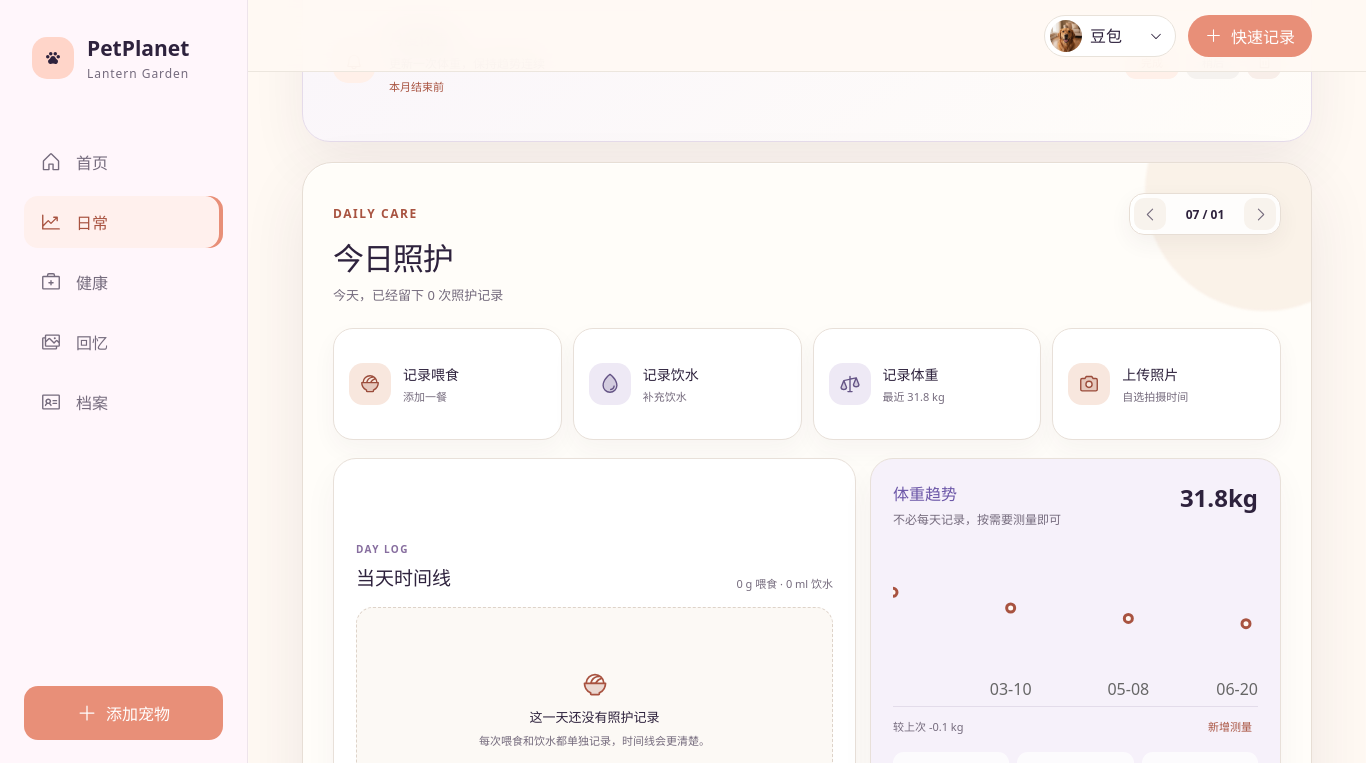
Scenario: PetPlanet app › records separate feeding and water events in the daily care timeline
(page scrolled)
Click the button "记录喂食 添加一餐" at [447, 384], box [333,328,562,440]
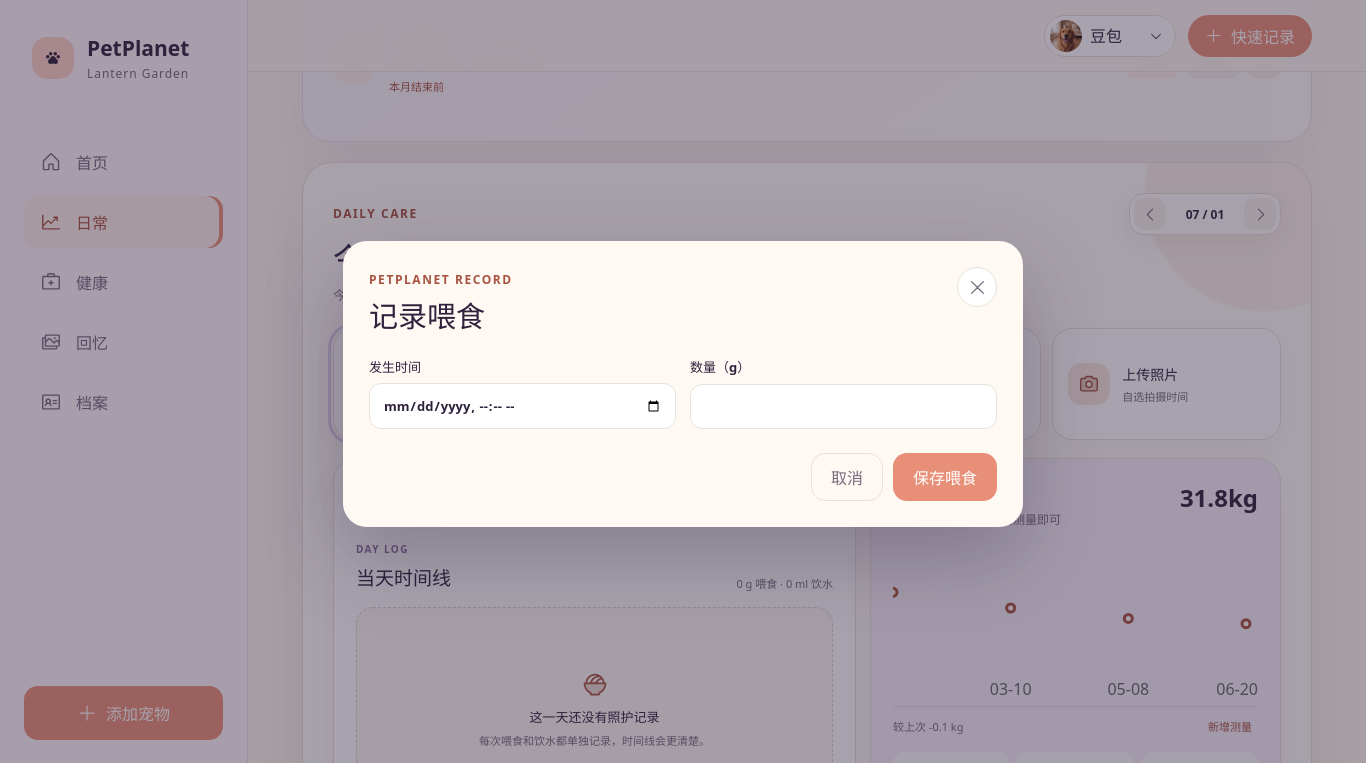
Type "2026-06-30T08:30" into the field labelled "发生时间" at [522, 406], box [369,383,676,429]
Type "180" into the number field labelled "数量（g）" at [844, 406], box [690,384,997,429]
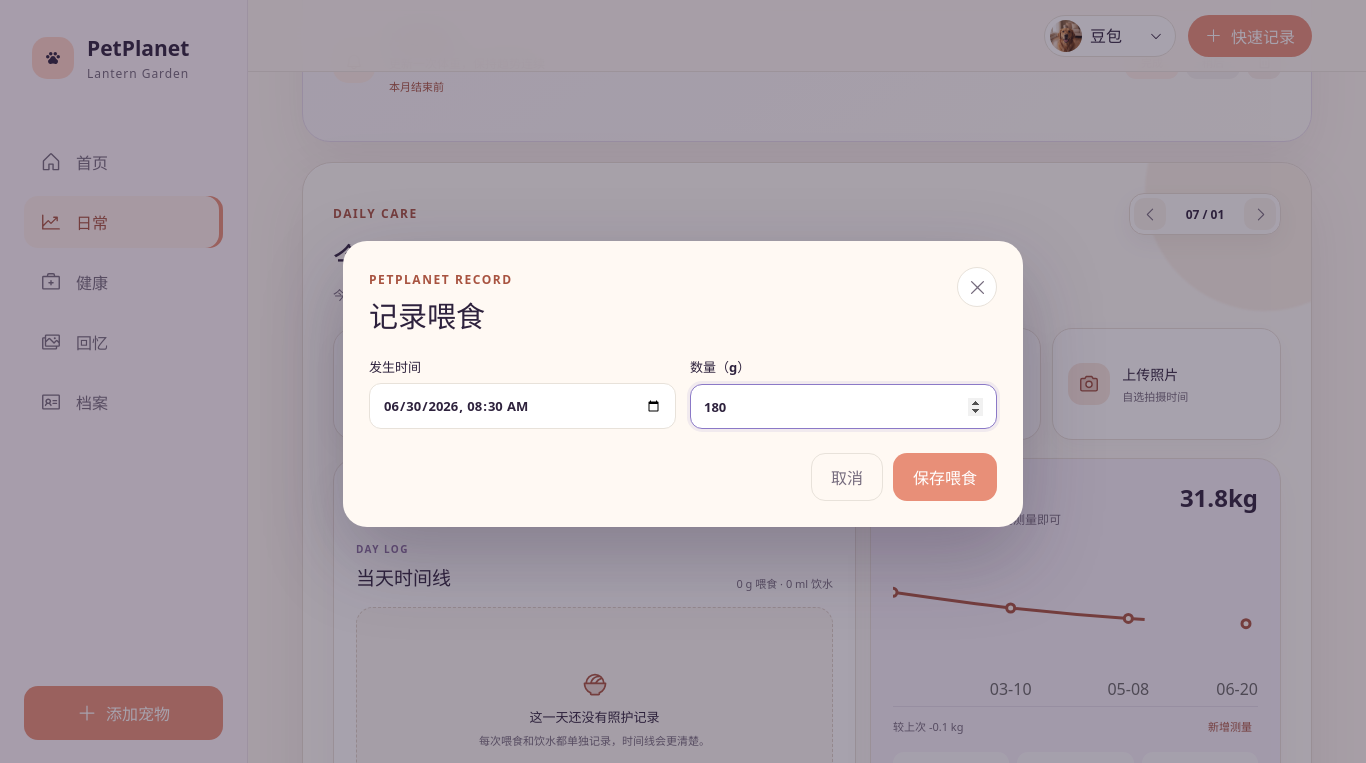
Click the button "保存喂食" at [945, 477], box [893,453,997,501]
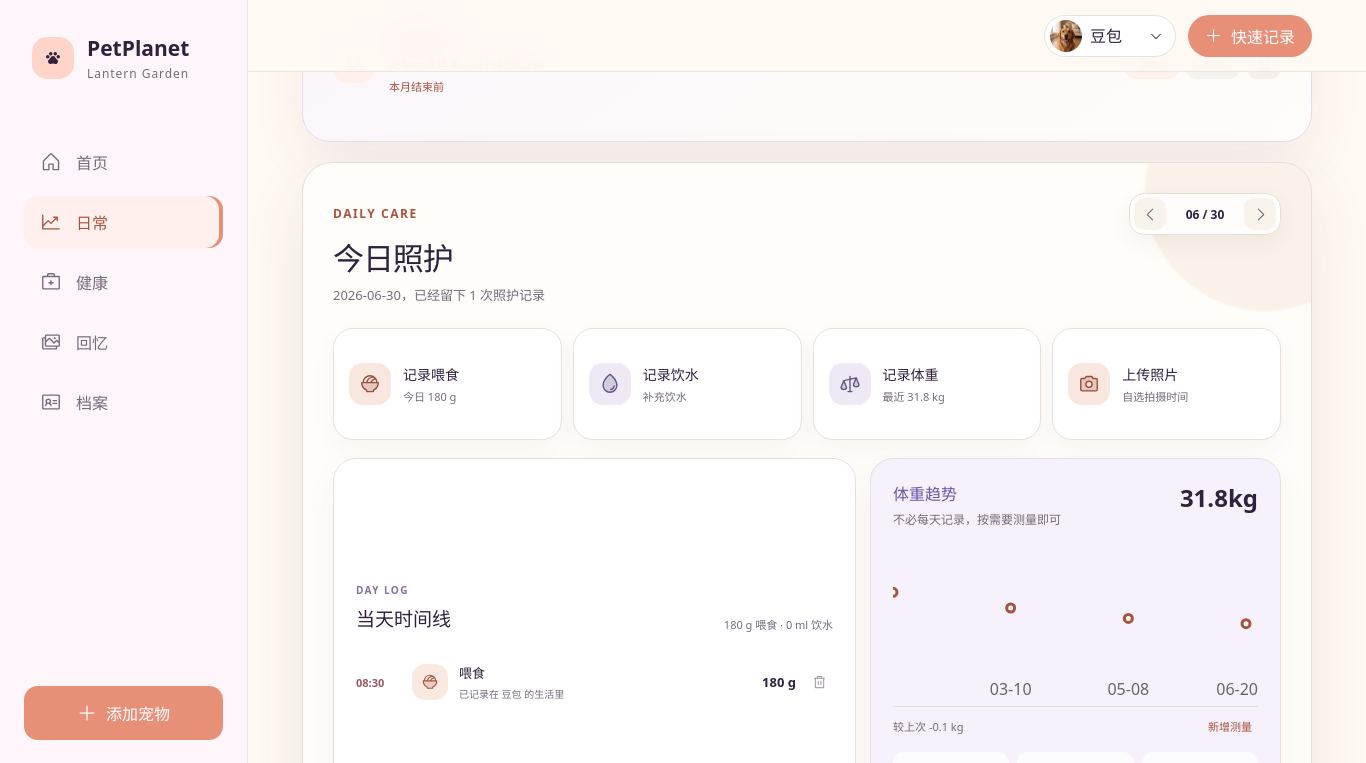
Check: the text "180 g" is shown, box [762,673,796,691]
Check: the text "08:30" is shown, box [356,675,384,690]
Click the button "记录饮水 补充饮水" at [687, 384], box [573,328,802,440]
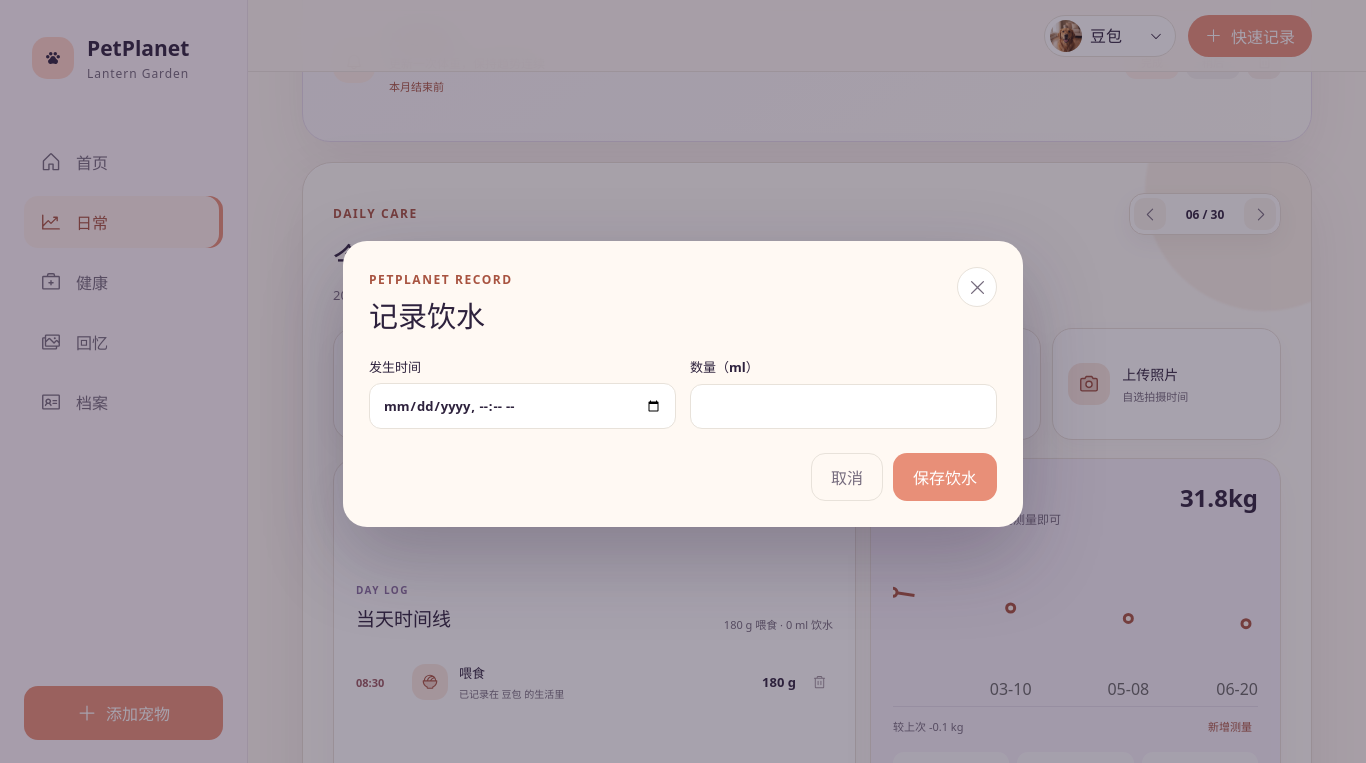
Type "2026-06-30T10:15" into the field labelled "发生时间" at [522, 406], box [369,383,676,429]
Type "250" into the number field labelled "数量（ml）" at [844, 406], box [690,384,997,429]
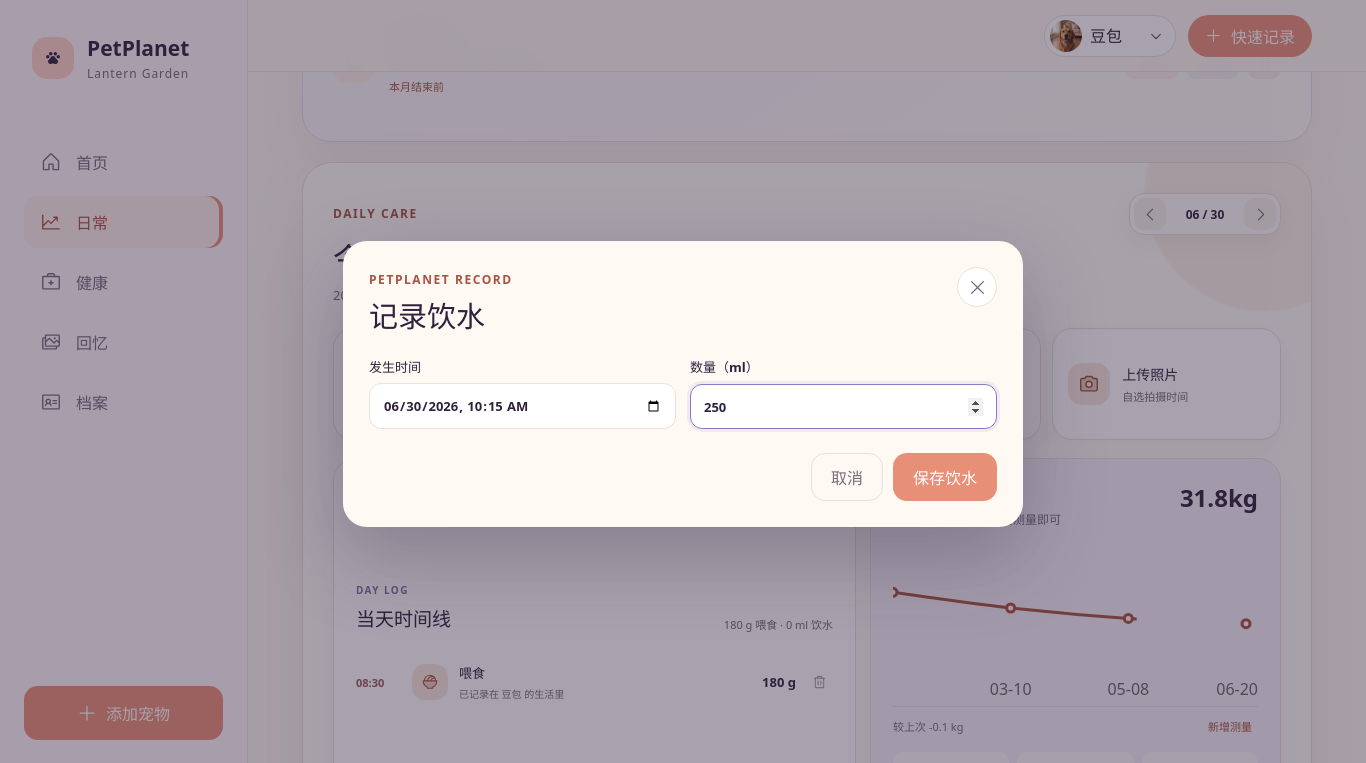
Click the button "保存饮水" at [945, 477], box [893,453,997,501]
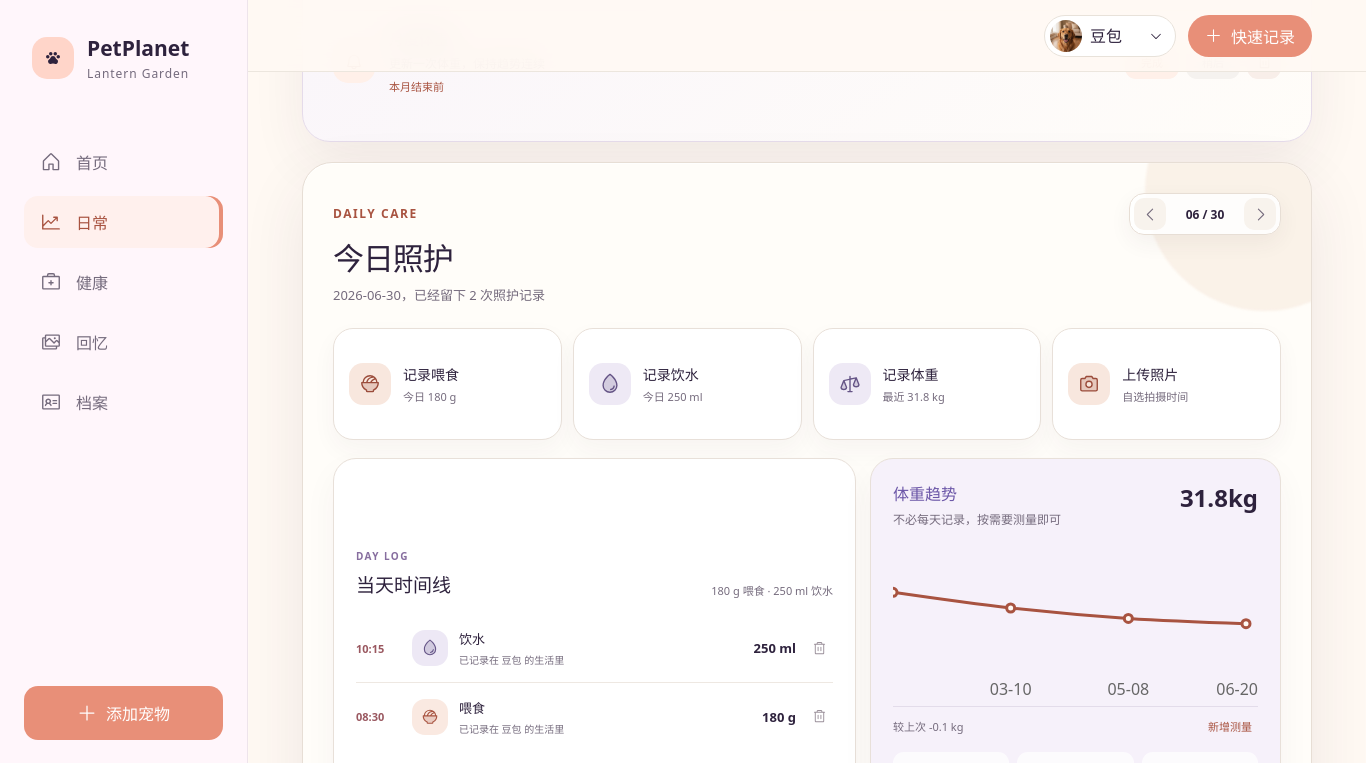
Check: the text "250 ml" is shown, box [754,639,796,657]
Check: the text "10:15" is shown, box [356,641,384,656]
